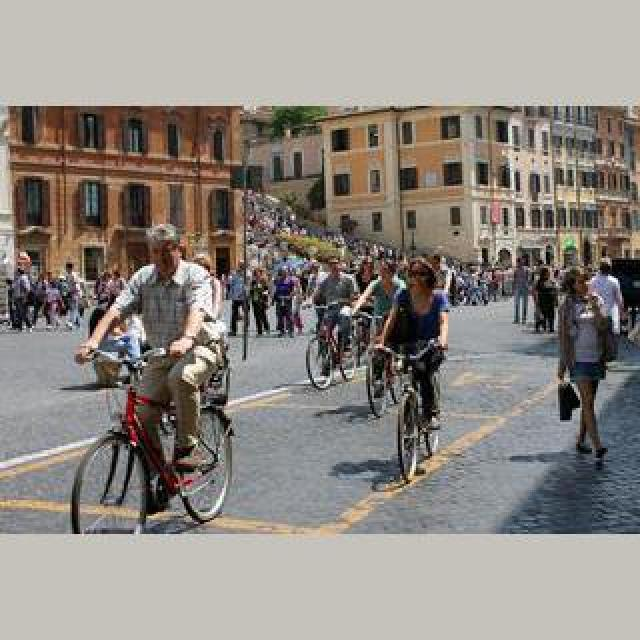Bus-Bike: (610, 258, 640, 310)
MC-Bike: (78, 222, 226, 504), (374, 260, 450, 428), (556, 272, 612, 454), (310, 258, 358, 372), (590, 258, 628, 362), (58, 262, 84, 332), (10, 264, 34, 332), (534, 266, 558, 334), (248, 268, 272, 336), (272, 268, 296, 336), (226, 268, 248, 334), (512, 256, 532, 326)
Person: (68, 344, 234, 532), (370, 338, 446, 482), (306, 302, 356, 390)
